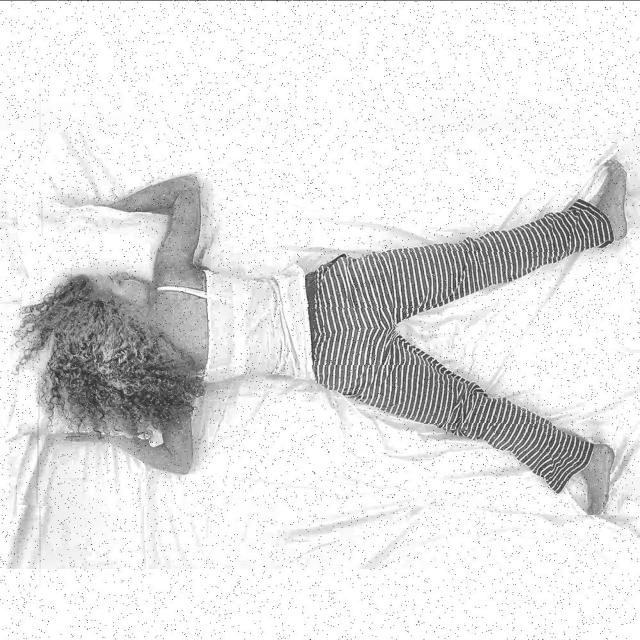Not_Supine: (20, 167, 627, 515)
